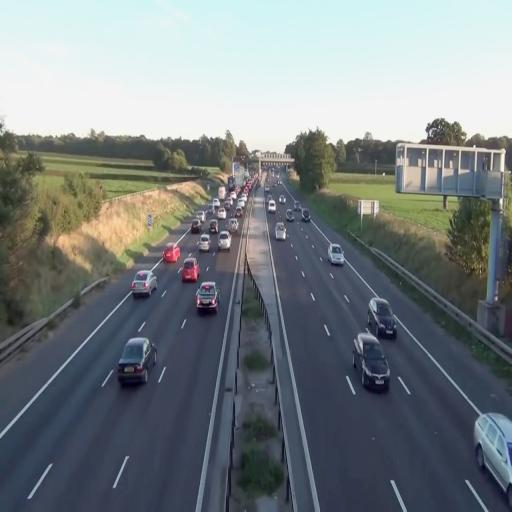vehicle: (474, 412, 512, 498), (353, 331, 390, 392), (117, 336, 156, 386), (368, 297, 396, 339), (195, 280, 219, 313), (131, 270, 153, 300), (180, 258, 200, 284), (163, 243, 181, 266), (329, 244, 344, 266), (218, 231, 231, 251), (275, 220, 287, 240), (285, 208, 296, 222), (300, 210, 311, 222)
